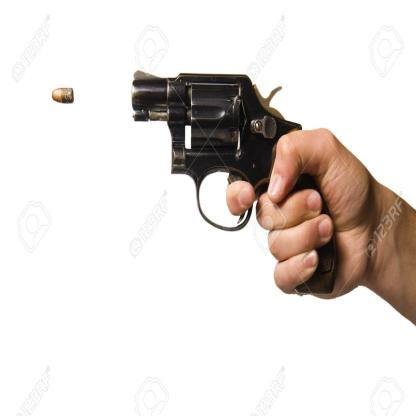handgun: (130, 71, 335, 298)
